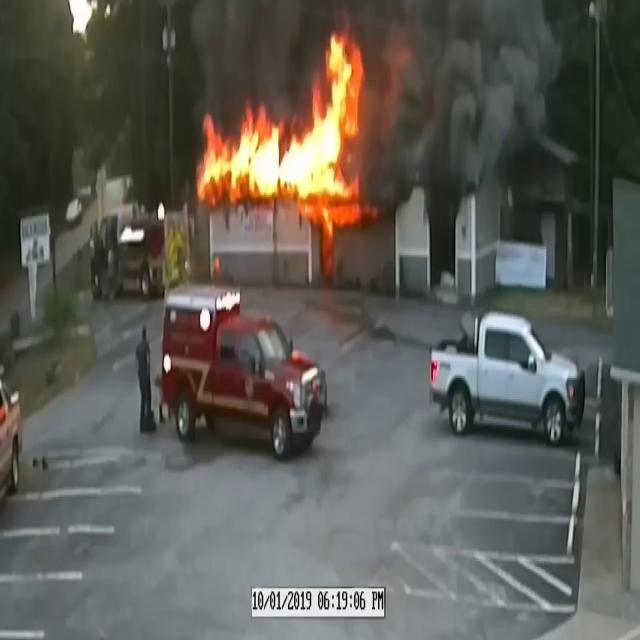Fire: (196, 27, 372, 225)
Smoke: (362, 0, 568, 220)
